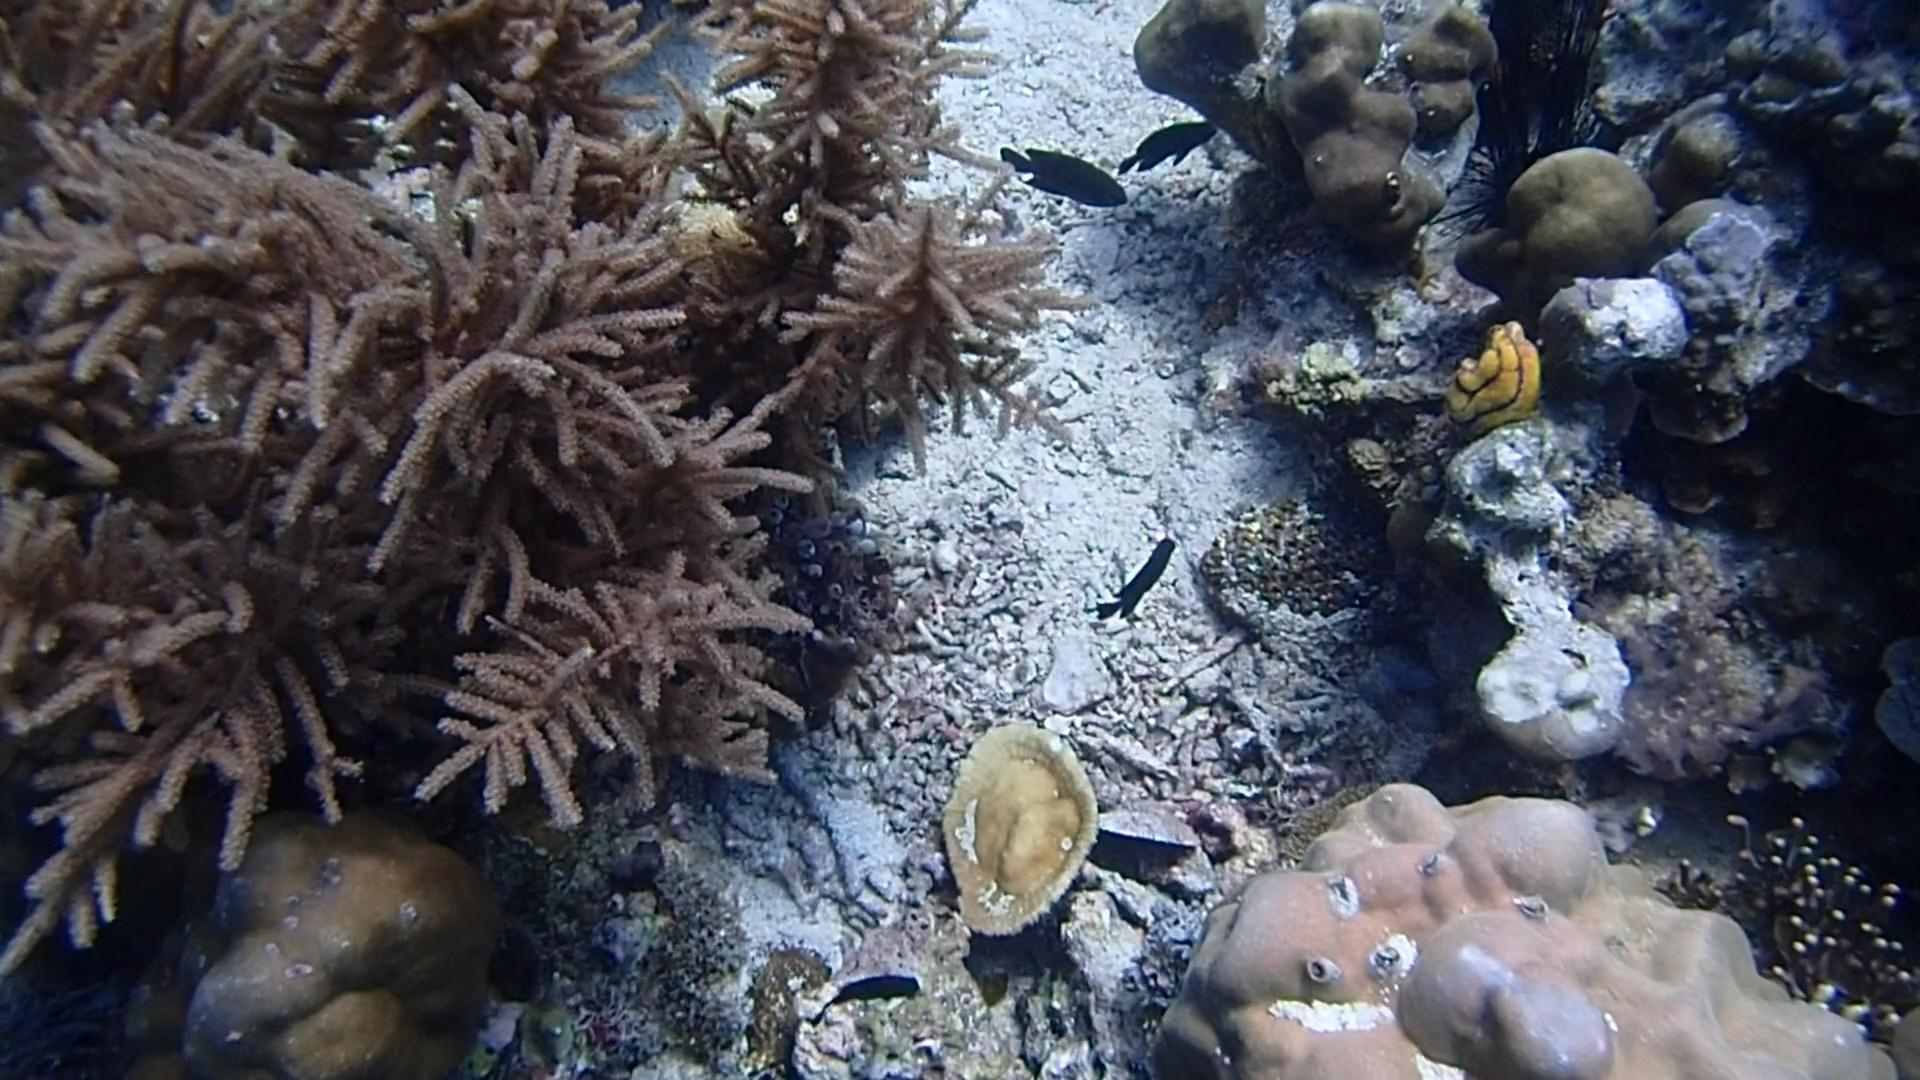Dark Fish: (994, 137, 1135, 218), (802, 959, 928, 1033), (1117, 104, 1222, 182), (1093, 531, 1179, 625)
